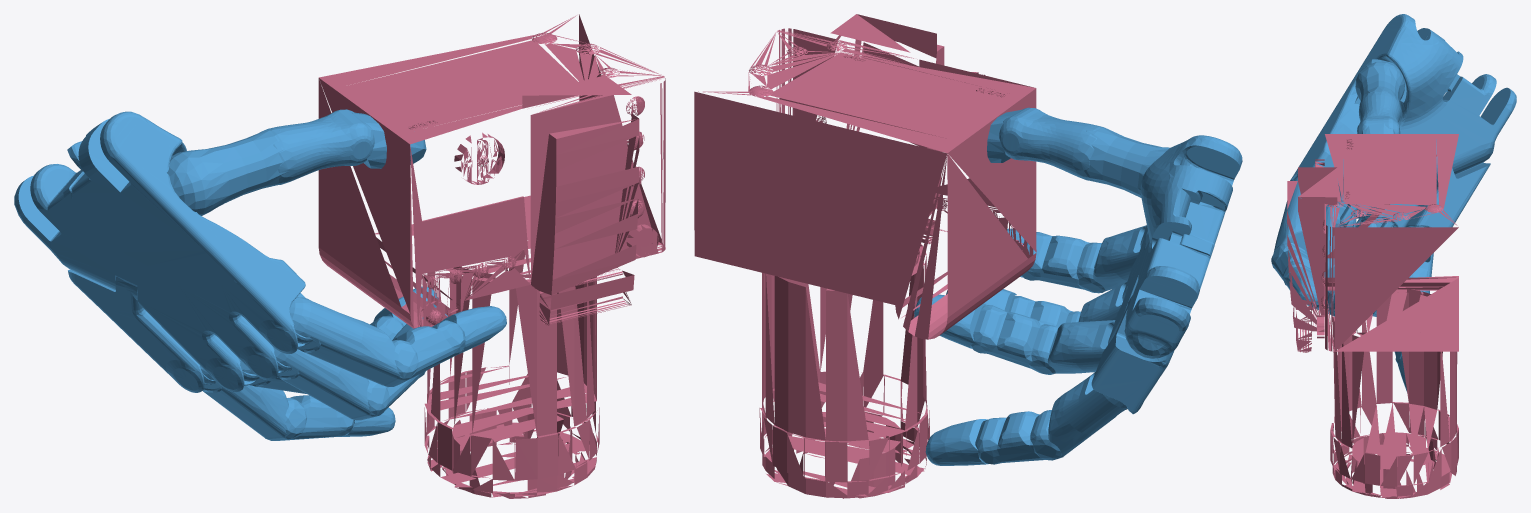
3 views of the same model, side by side, from view 1: azimuth 30°, elevation 25°; view 2: azimuth 150°, elevation 25°; view 3: azimuth 270°, elevation 25° (orthographic). The views are drawn at different scales.
Parts seen in each view (by area): view 1: 8; view 2: 8; view 3: 8.
Boxes of the visible parts, bbox=[...] form: 8: bbox=[14, 14, 665, 498]; 8: bbox=[694, 14, 1242, 498]; 8: bbox=[1271, 14, 1516, 498].
Bounding box in the file's own units: 0.2357 × 0.1871 × 0.1278.
